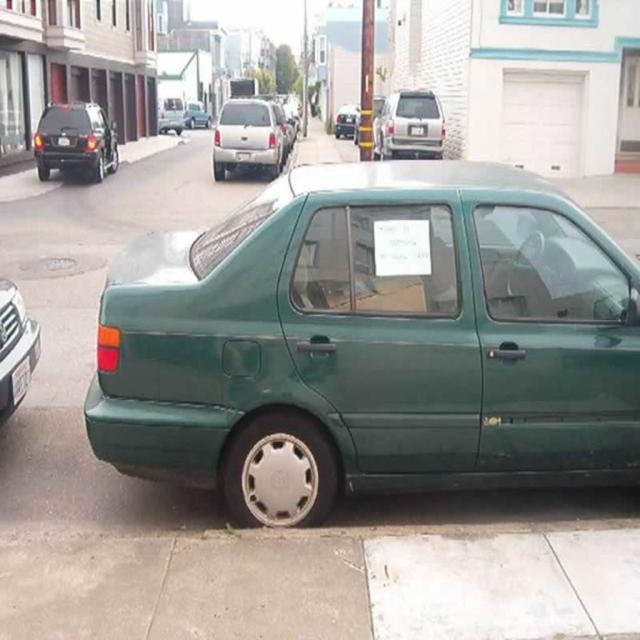car: (32, 99, 118, 174)
